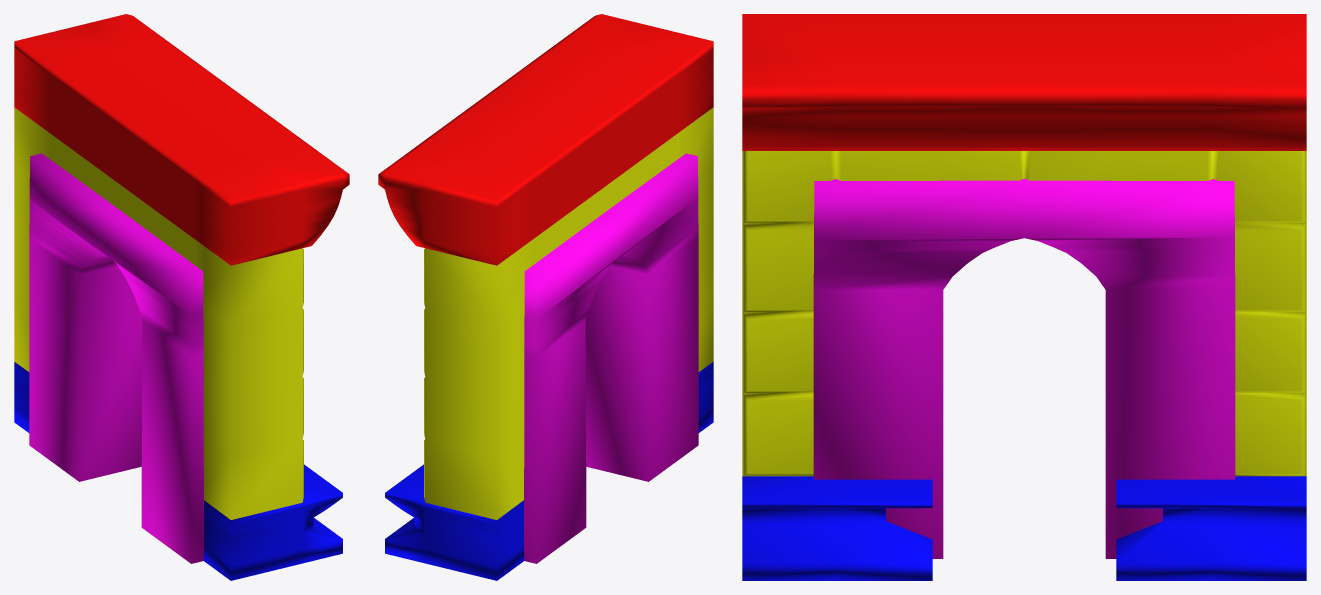
Rendered from FINALNEW_doorway_low.fbx.
The picture shows the model from 3 angles, left to right: view 1: azimuth 30°, elevation 25°; view 2: azimuth 150°, elevation 25°; view 3: azimuth 270°, elevation 25°; orthographic projection. The views are drawn at different scales.
Parts seen in each view (by area): view 1: polySurface10 (×4); view 2: polySurface10 (×4); view 3: polySurface10 (×4).
Part boxes in pixels (x1=…): polySurface10 (×4): x1=14, y1=14, x2=349, y2=580; polySurface10 (×4): x1=378, y1=14, x2=713, y2=580; polySurface10 (×4): x1=742, y1=14, x2=1306, y2=580.
Size of the model in its own units: 1.95 by 5.42 by 5.58.
